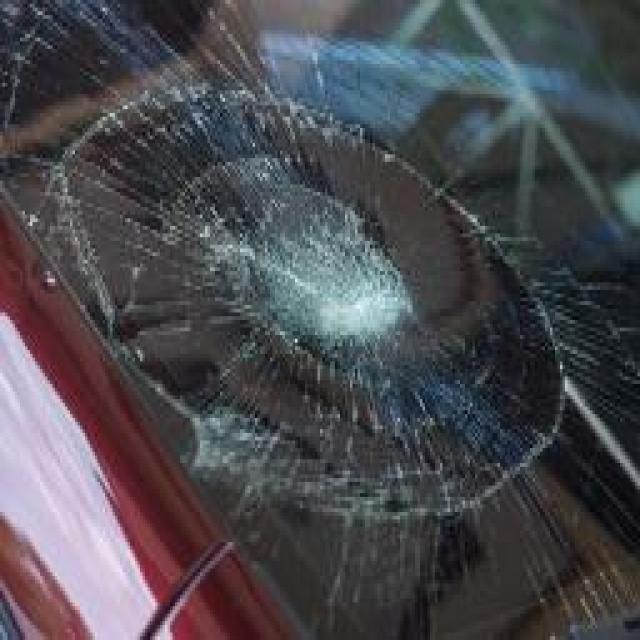Windshield: (8, 4, 618, 599)
